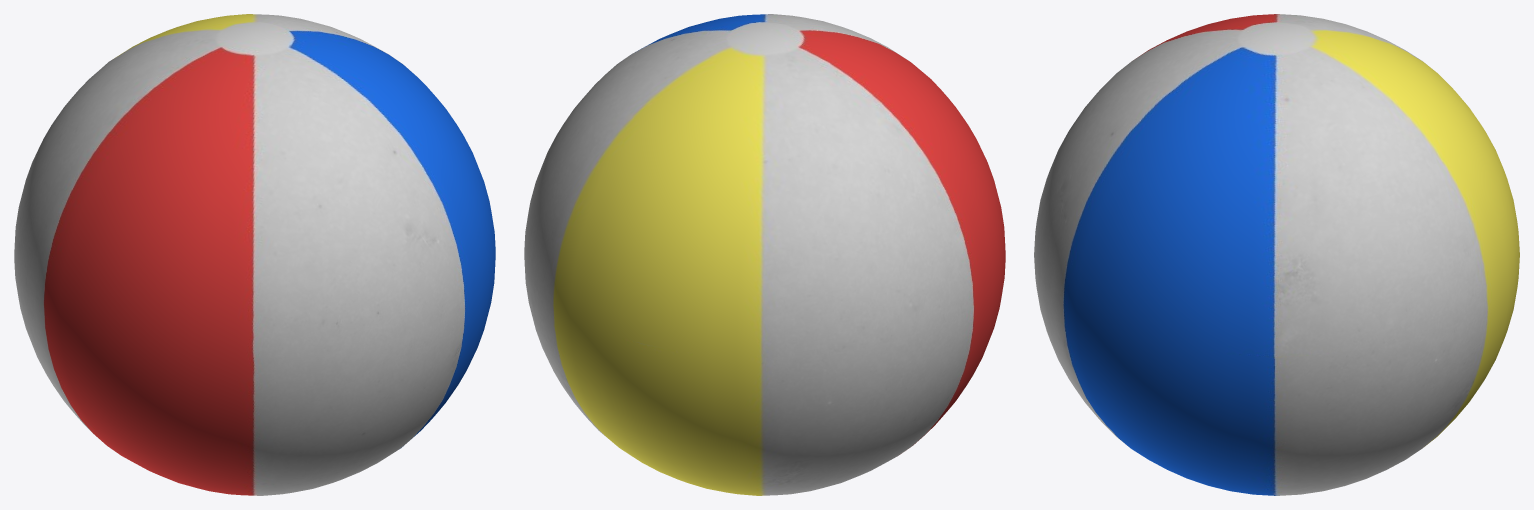
The model's file is decor_toys_ball1.glb.
3 views of the same model, side by side, from view 1: azimuth 30°, elevation 25°; view 2: azimuth 150°, elevation 25°; view 3: azimuth 270°, elevation 25° (orthographic).
Parts seen in each view (by area): view 1: Beach Ball; view 2: Beach Ball; view 3: Beach Ball.
Boxes of the visible parts, <box> form: Beach Ball: <box>14,14,495,495</box>; Beach Ball: <box>524,14,1005,495</box>; Beach Ball: <box>1034,14,1519,495</box>.
Bounding box in the file's own units: 0.451 × 0.4508 × 0.451.
Materials: 1 (1 with a texture image).
